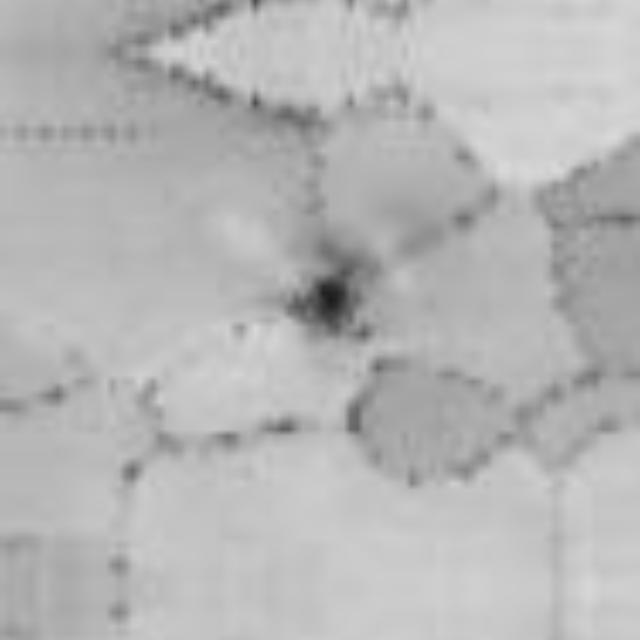good_void: (269, 257, 386, 353)
